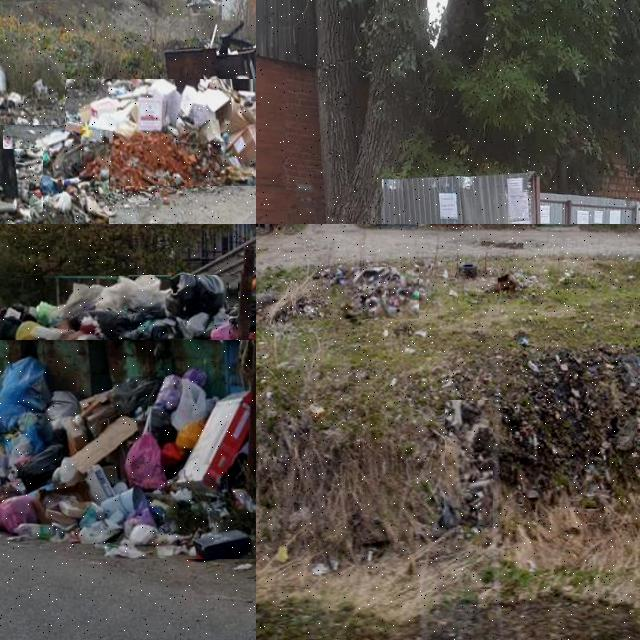lixeira: (0, 340, 255, 561), (67, 79, 255, 187), (0, 274, 232, 348), (4, 130, 112, 223), (446, 400, 495, 526), (331, 268, 421, 320), (0, 64, 67, 127)
